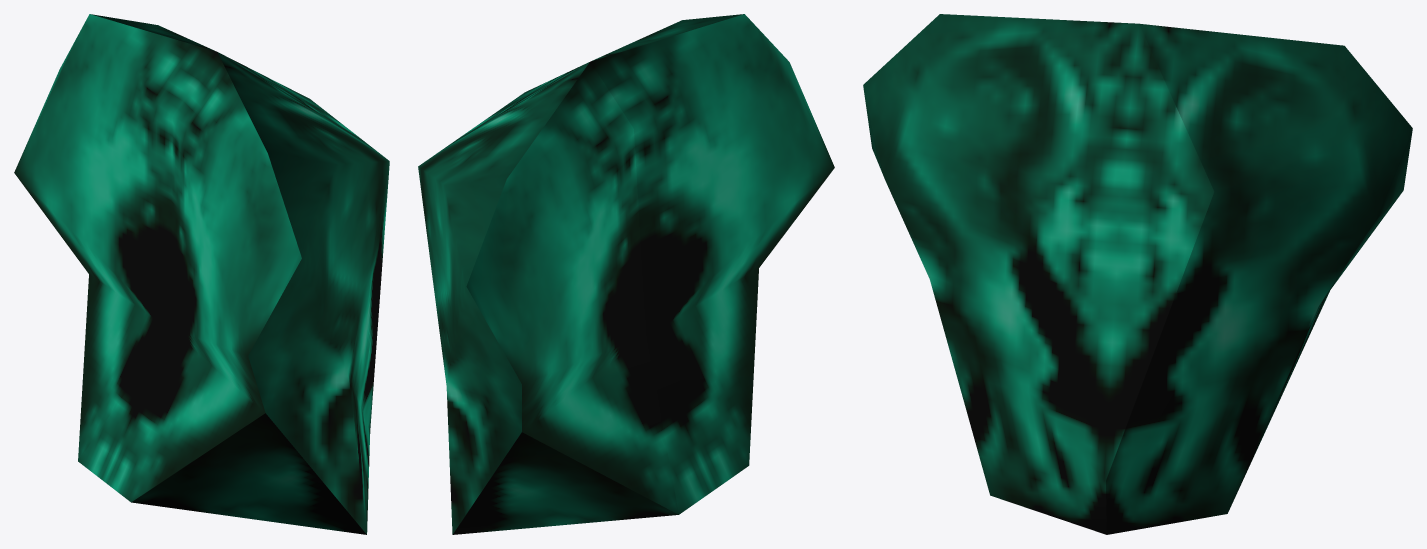
Rendered from VIFS02.obj.
The picture shows the model from 3 angles, left to right: view 1: azimuth 30°, elevation 25°; view 2: azimuth 150°, elevation 25°; view 3: azimuth 270°, elevation 25°; orthographic projection. The views are drawn at different scales.
Parts seen in each view (by area): view 1: VIFS02; view 2: VIFS02; view 3: VIFS02.
Boxes of the visible parts, x1,y1,x2,y2 form: VIFS02: [14, 14, 389, 534]; VIFS02: [418, 14, 834, 534]; VIFS02: [863, 14, 1412, 534].
Bounding box in the file's own units: 6.57 × 11.74 × 12.39.
